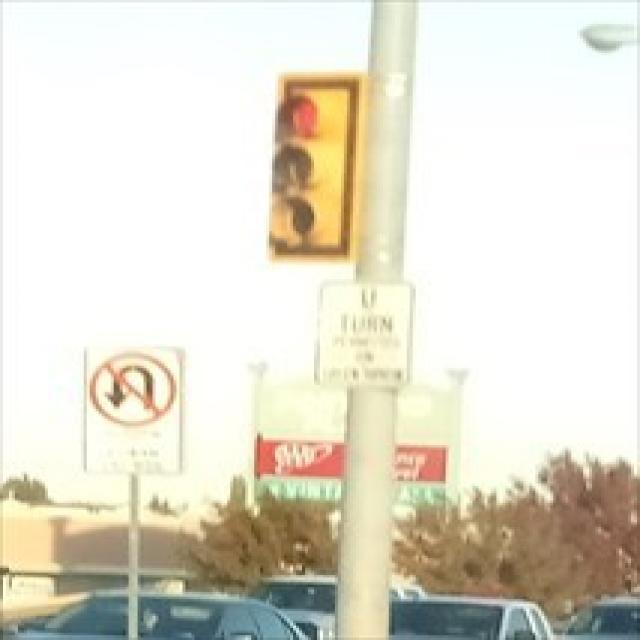no u turn: (83, 349, 176, 435)
